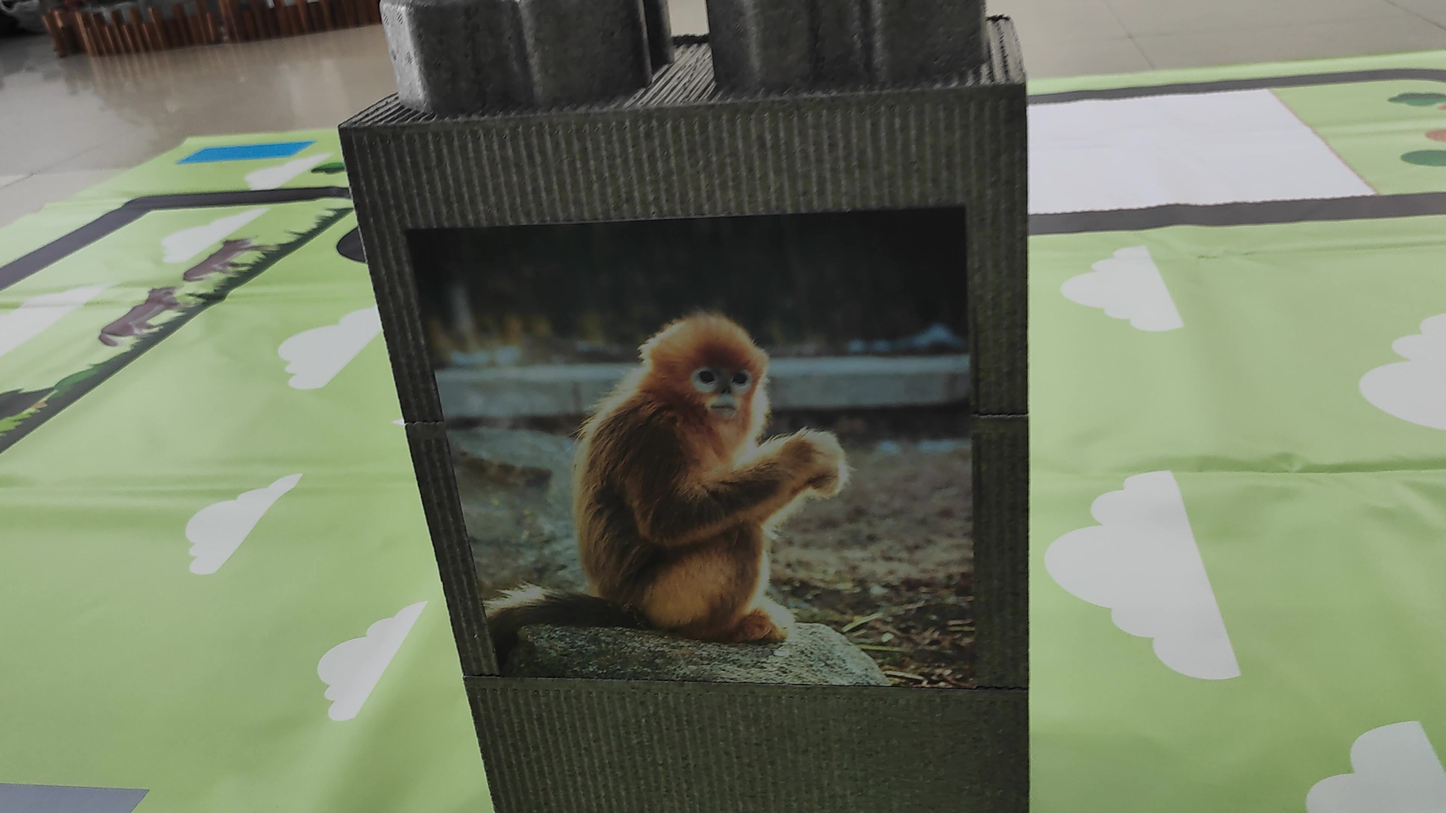monkey: (530, 286, 878, 652)
